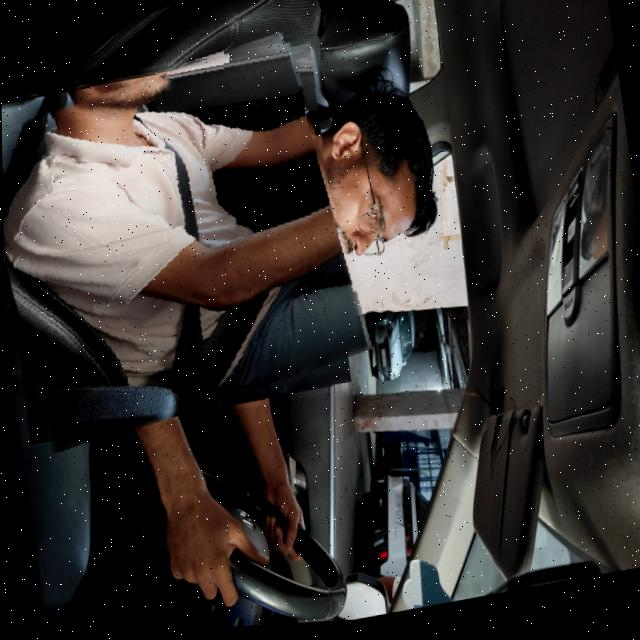seatbelt: (1, 37, 365, 449)
